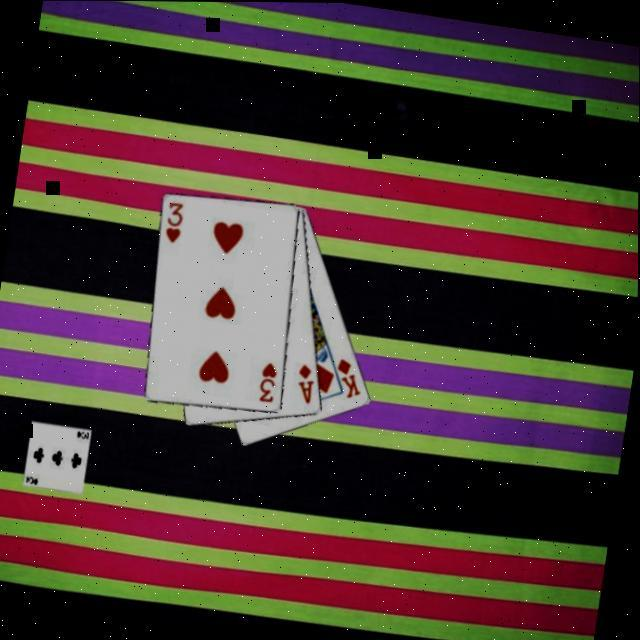3H: (159, 201, 186, 248), (253, 360, 279, 407)
AD: (290, 362, 317, 408)
KD: (329, 355, 367, 403)
